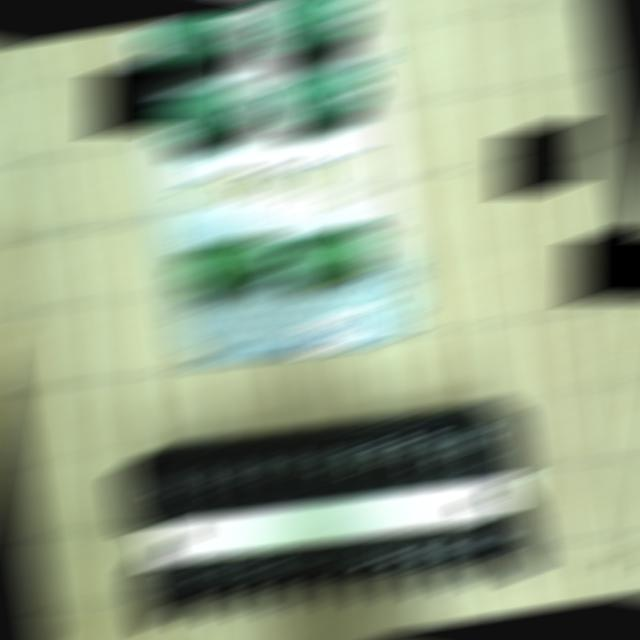Flathead_Block: (115, 421, 543, 624)
Terminal_1: (282, 227, 381, 284), (178, 239, 277, 290)
Terminal_2: (274, 68, 369, 120), (264, 0, 360, 49), (145, 14, 240, 63), (157, 88, 251, 136)
